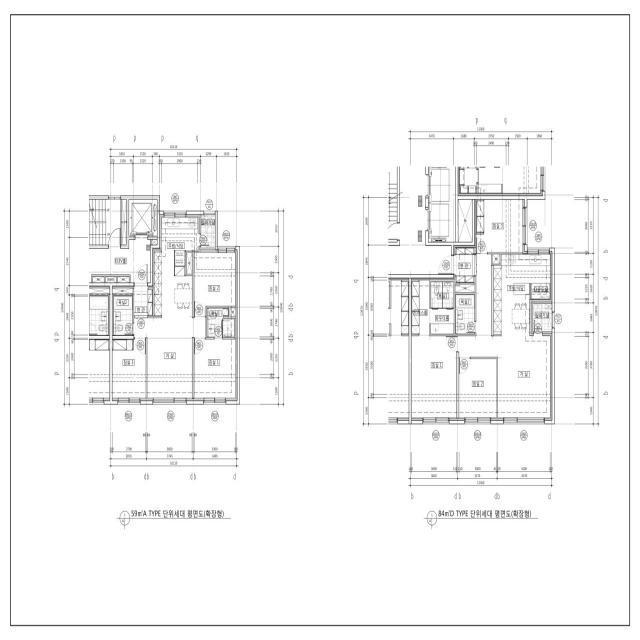space_bedroom: (412, 336, 456, 420), (194, 250, 237, 316), (194, 339, 237, 401), (475, 200, 525, 252), (459, 359, 496, 420), (112, 339, 146, 401)
space_dressroom: (412, 278, 429, 336), (429, 309, 454, 334)
space_elevator: (428, 203, 455, 242), (129, 199, 157, 236), (428, 167, 455, 203)
space_elevator_hall: (388, 167, 451, 274), (89, 236, 150, 283)
space_front: (454, 246, 475, 283), (134, 286, 153, 316)
space_kitchen: (494, 252, 552, 336), (153, 215, 200, 318)
space_living_room: (458, 254, 552, 420), (134, 318, 205, 401)
space_multipurpose_space: (531, 283, 552, 302)
space_other: (458, 200, 472, 242), (122, 200, 126, 245), (112, 286, 133, 294), (187, 253, 192, 274), (493, 254, 500, 264), (93, 277, 104, 283), (230, 308, 237, 317), (105, 277, 116, 282), (118, 277, 129, 282), (152, 240, 157, 245)
space_outdoor_room: (533, 304, 552, 332), (201, 215, 215, 248)
space_staircase: (89, 199, 121, 245), (388, 167, 397, 242), (455, 285, 475, 292)
space_toilet: (207, 308, 235, 337), (455, 294, 475, 334), (113, 296, 133, 336), (442, 282, 454, 308), (431, 282, 442, 308)
